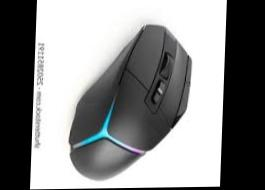mouse: (68, 23, 196, 179)
